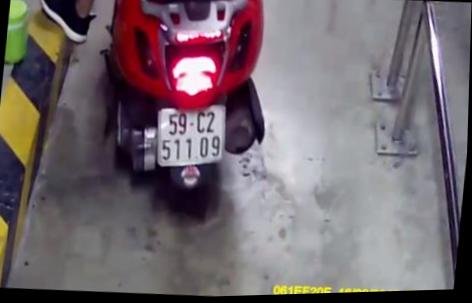LP: (151, 102, 231, 171)
